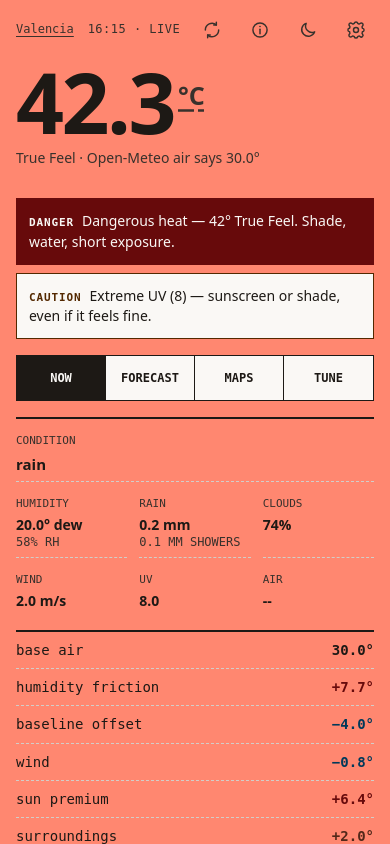
Test case: Dashboard › lets the user force-refresh the reading when comparing web and native app
Expected: the text "True Feel · Open-Meteo air says 30.0°" is shown, [16, 148, 260, 167]
Click the button named "refresh weather reading". click: {"x": 212, "y": 30}
box: [190, 8, 234, 52]
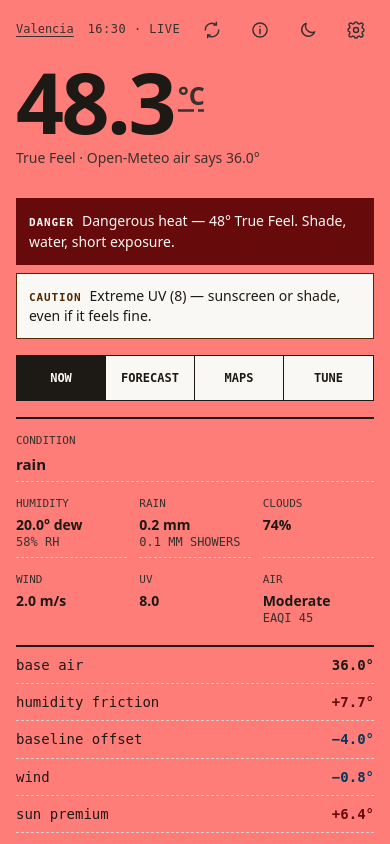
Result: the text "True Feel · Open-Meteo air says 36.0°" is shown at [16, 148, 260, 167]
